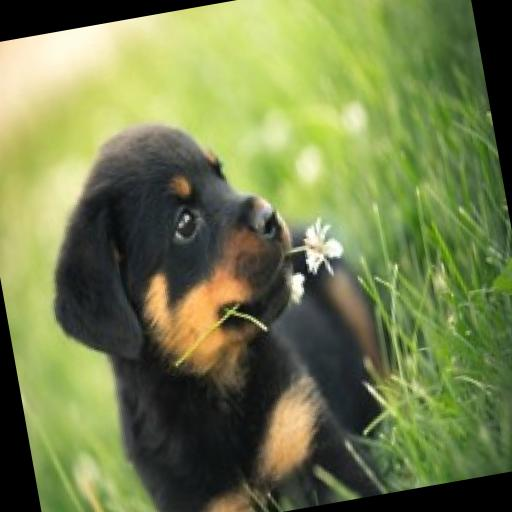dog: (14, 79, 405, 512)
